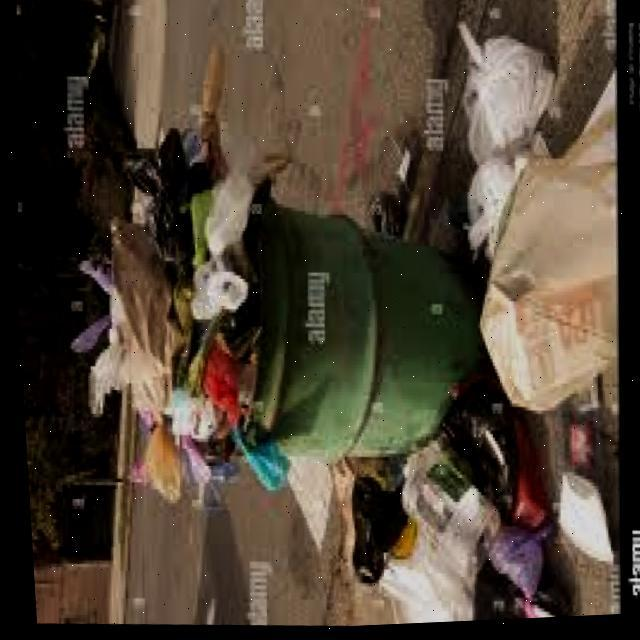Garbage: (15, 58, 283, 562)
Plastic: (109, 221, 168, 366), (208, 174, 252, 256)
Plastic_Bag: (85, 219, 176, 412)
Plastic_bottle: (234, 420, 252, 442)
